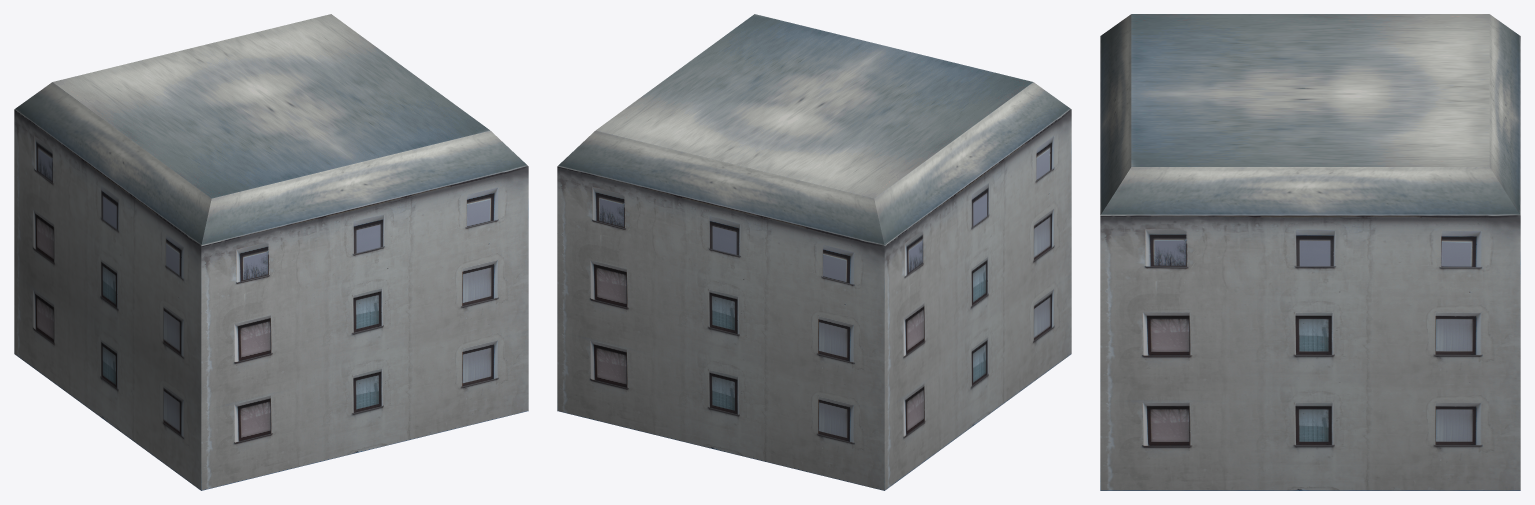
The picture shows the model from 3 angles, left to right: view 1: azimuth 30°, elevation 25°; view 2: azimuth 150°, elevation 25°; view 3: azimuth 270°, elevation 25°; orthographic projection. The views are drawn at different scales.
Visible parts, largest first — view 1: Box001; view 2: Box001; view 3: Box001.
Part boxes in pixels (box(x1,y1,x2,y2)): Box001: box(14, 14, 528, 490); Box001: box(557, 14, 1071, 490); Box001: box(1100, 14, 1520, 490).
Size of the model in its own units: 50.8 by 40.98 by 50.25.
